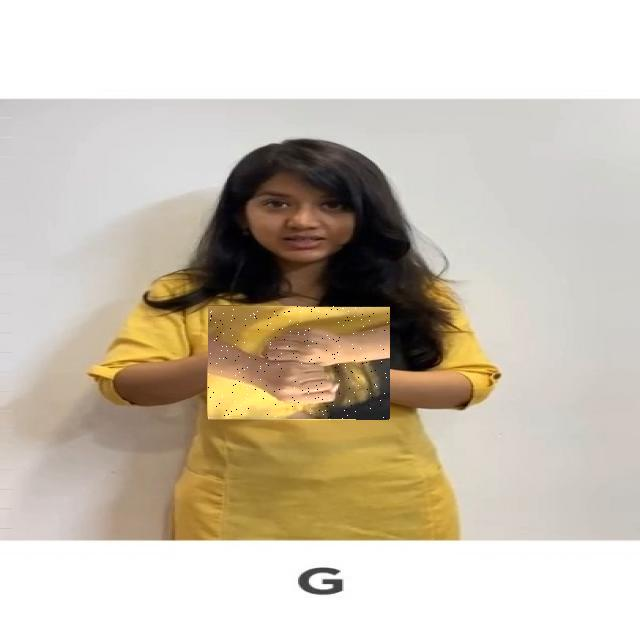G: (208, 306, 390, 420)
